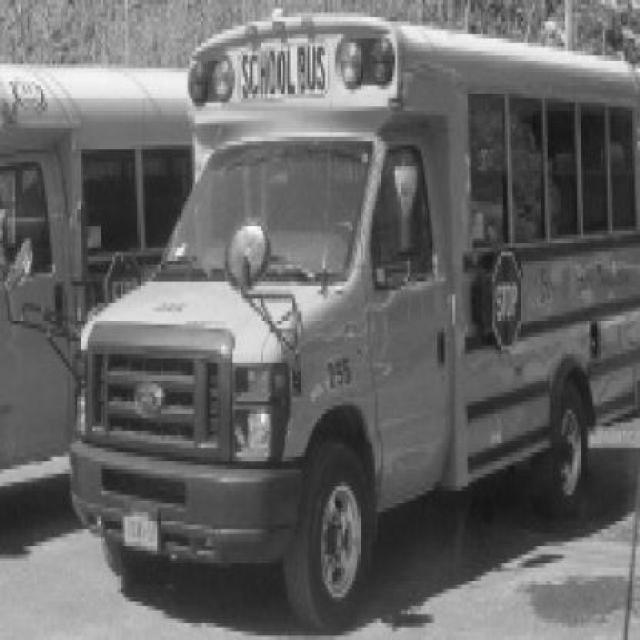Bus- Small: (68, 13, 640, 634), (0, 65, 193, 471)
